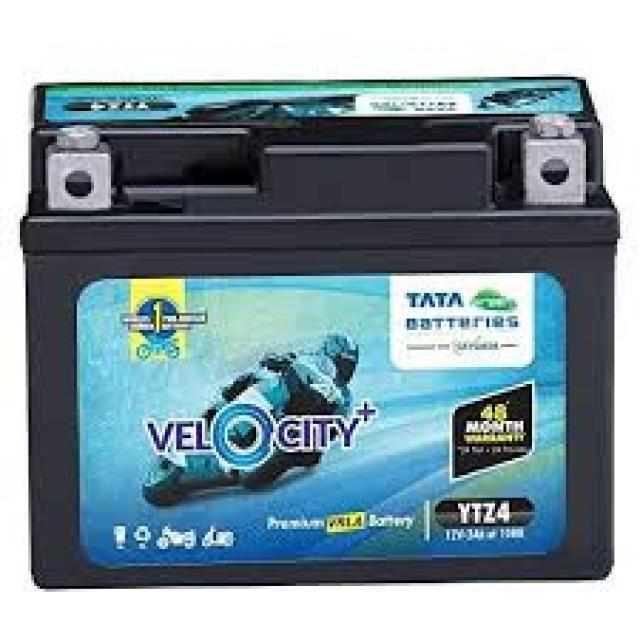battery: (22, 78, 614, 592)
